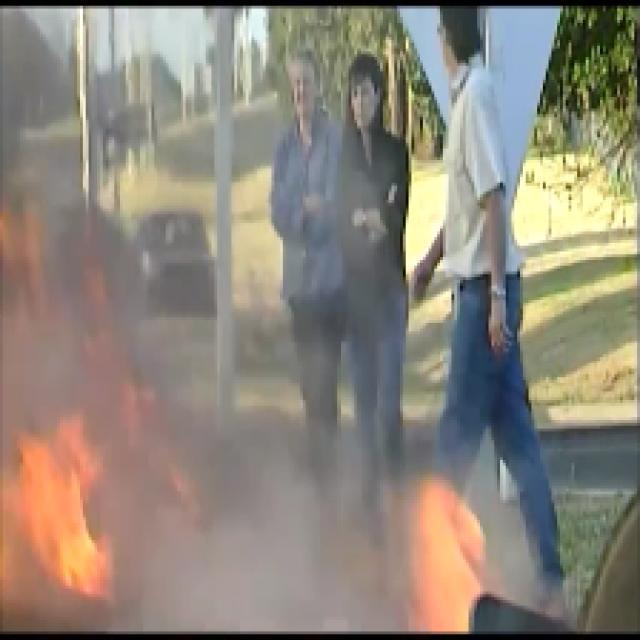Fire: (0, 368, 149, 608), (374, 474, 514, 640)
Smoke: (9, 23, 258, 360)
